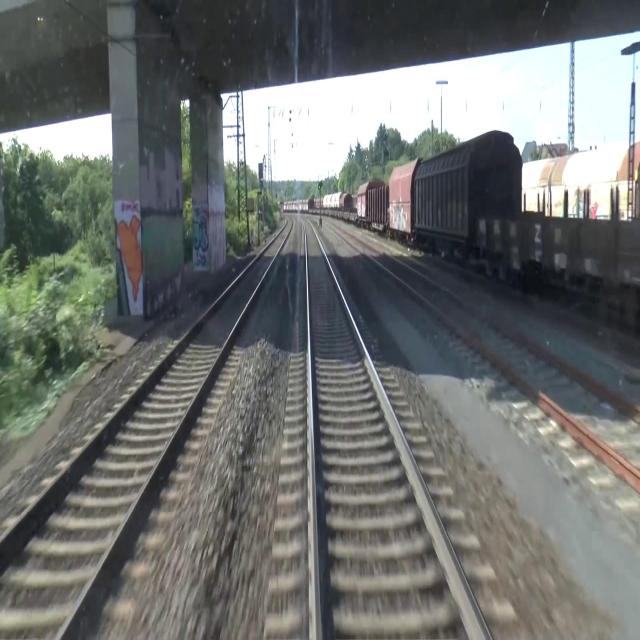rail-track: (0, 215, 292, 635), (298, 216, 488, 639), (322, 219, 640, 471)
